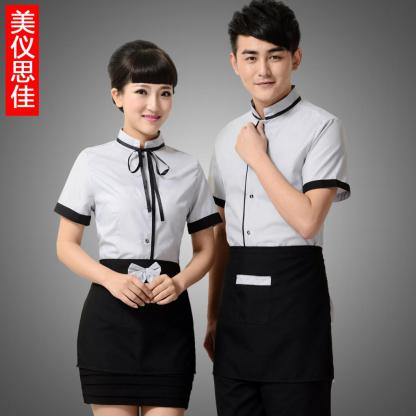face: (238, 26, 293, 104), (125, 64, 174, 135)
